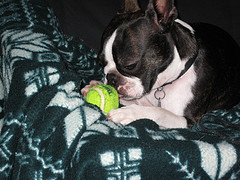tennis ball: (83, 83, 120, 116)
